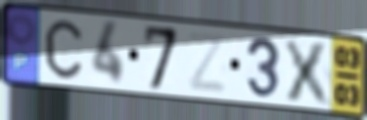3: (242, 35, 285, 102)
4: (88, 18, 128, 90)
7: (142, 22, 179, 92)
C: (42, 17, 84, 81)
X: (282, 36, 336, 108)
Z: (185, 29, 229, 97)
